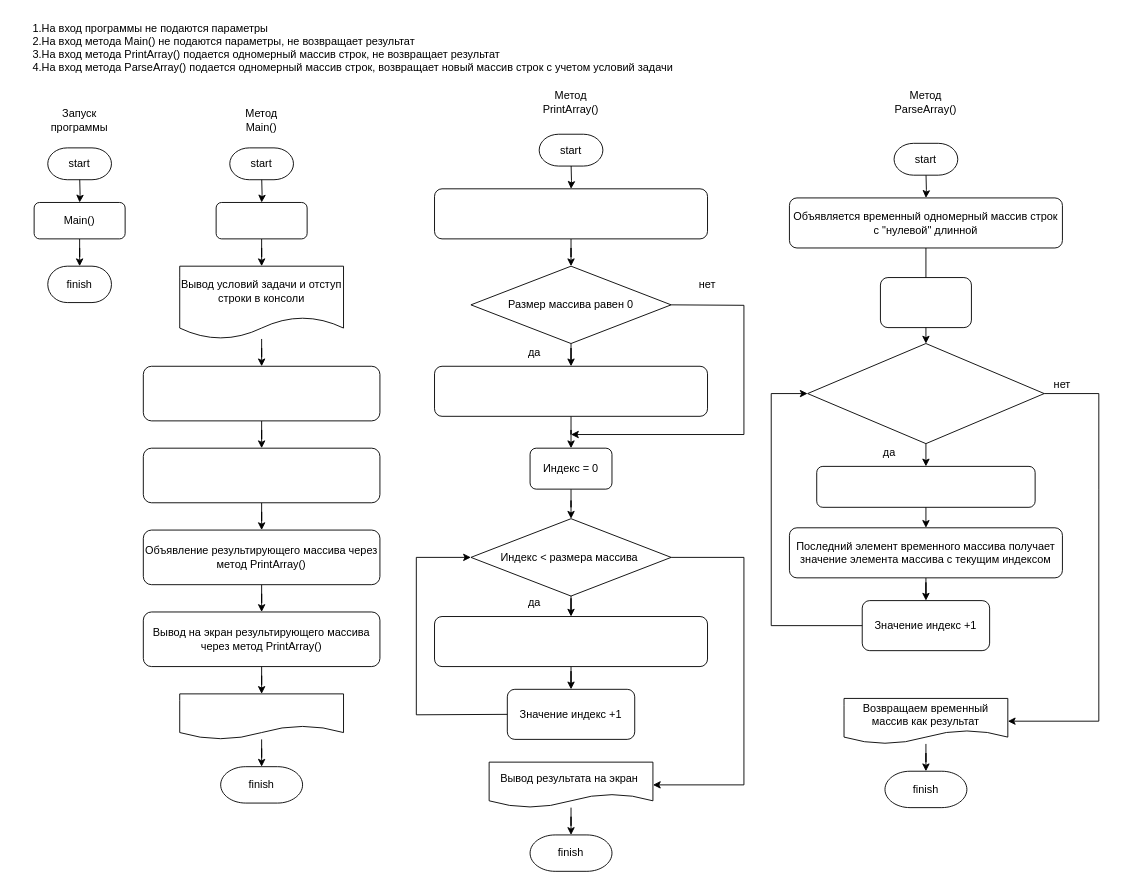
Image size: 1122x887. Some labels were removed from this diagram. The shapes that lost their labels are listed below. From the top down, each one's centre as x and y in pixels, then its label:
At pixel 261 220: "Очистка экрана".
At pixel 571 213: "Объявляется временная переменная с учетом переменной значения message".
At pixel 925 302: "индекс =0".
At pixel 261 393: "Объявление и задание значений исходного массива строк".
At pixel 571 390: "Дополняем результат комментарием, что в массиве нет элементов".
At pixel 925 393: "Индекс < размера массива (обход исходного массива)".
At pixel 261 475: "Вывод на экран исходного массива через метод PrintArray()".
At pixel 925 486: "Размер временного массива увеличивается на 1".
At pixel 571 641: "Результат дополняется значением элемента с текущим индексом".
At pixel 261 716: "Отступ строки в консоли".
